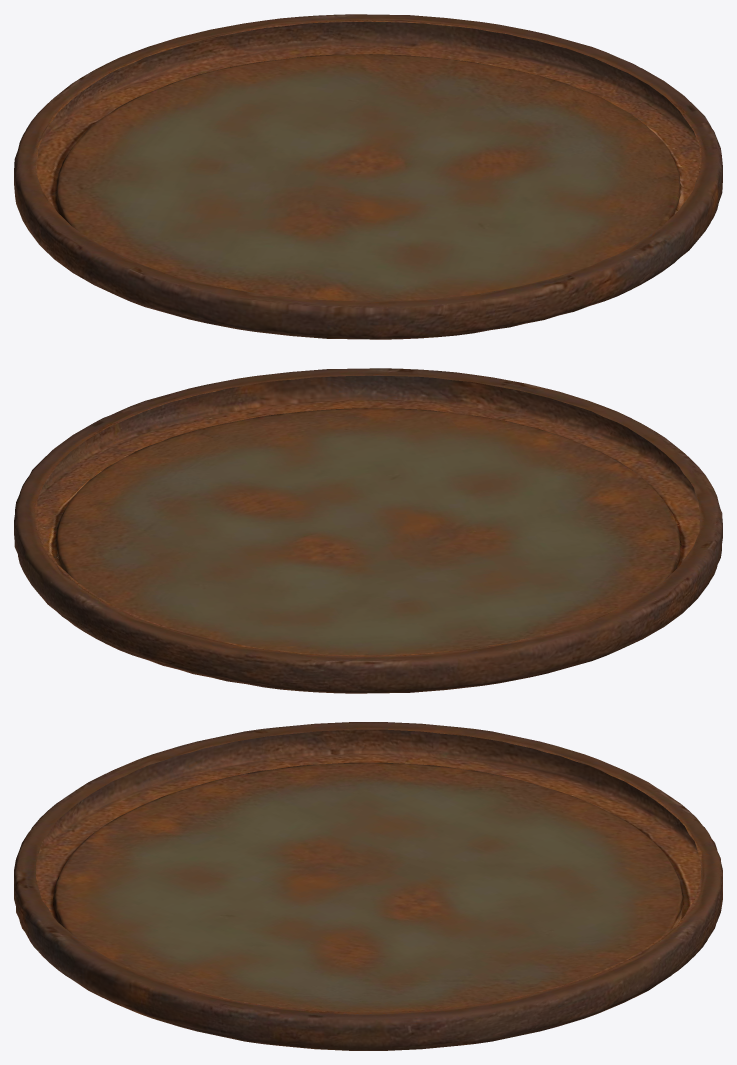
File: oil_drum.glb
3 renders of one model, top to bottom at view 1: azimuth 30°, elevation 25°; view 2: azimuth 150°, elevation 25°; view 3: azimuth 270°, elevation 25°, orthographic.
Parts seen in each view (by area): view 1: tripo_node_bcdaff9d-923a-4ef9-a1cc-c6f8a9605504; view 2: tripo_node_bcdaff9d-923a-4ef9-a1cc-c6f8a9605504; view 3: tripo_node_bcdaff9d-923a-4ef9-a1cc-c6f8a9605504.
Part boxes in pixels (left/top/right/bottom): tripo_node_bcdaff9d-923a-4ef9-a1cc-c6f8a9605504: left=14, top=14, right=722, bottom=339; tripo_node_bcdaff9d-923a-4ef9-a1cc-c6f8a9605504: left=14, top=368, right=722, bottom=693; tripo_node_bcdaff9d-923a-4ef9-a1cc-c6f8a9605504: left=14, top=722, right=722, bottom=1050.
Bounding box in the file's own units: 0.6947 × 0.0333 × 0.6908.
Materials: 1 (1 with a texture image).
